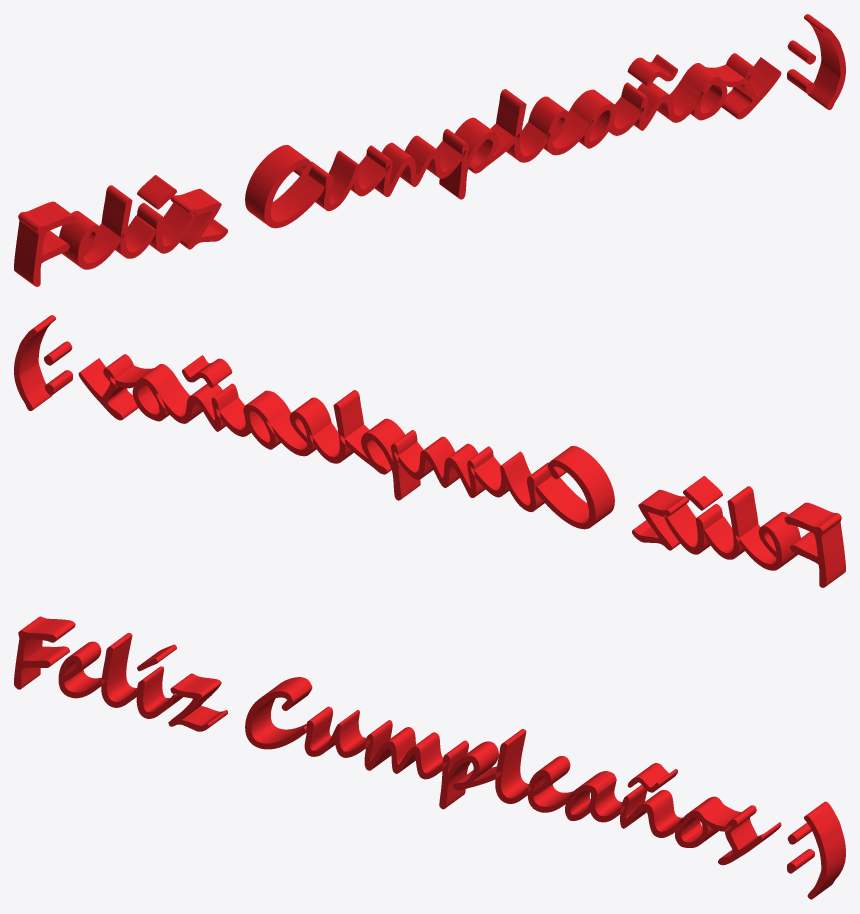
The model's file is feliz.fbx.
3 views of the same model, one above another, from view 1: azimuth 30°, elevation 25°; view 2: azimuth 150°, elevation 25°; view 3: azimuth 330°, elevation 25° (orthographic).
Parts seen in each view (by area): view 1: node_id47; view 2: node_id47; view 3: node_id47.
Part boxes in pixels (left/top/right/bottom): node_id47: left=14, top=14, right=845, bottom=286; node_id47: left=14, top=315, right=845, bottom=587; node_id47: left=14, top=616, right=845, bottom=899.
Size of the model in its own units: 1.01 by 0.0979 by 0.0412.
Materials: 1 (1 with a texture image).
